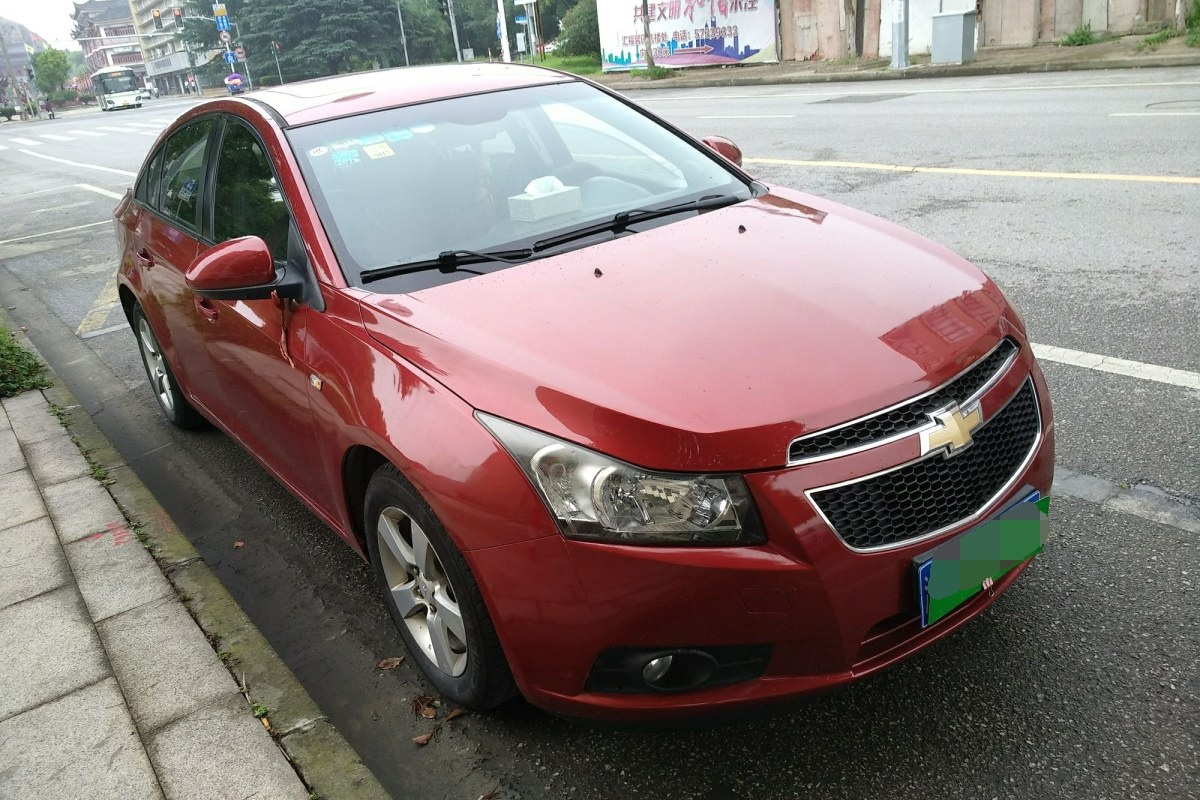family sedan: (111, 79, 1071, 715)
